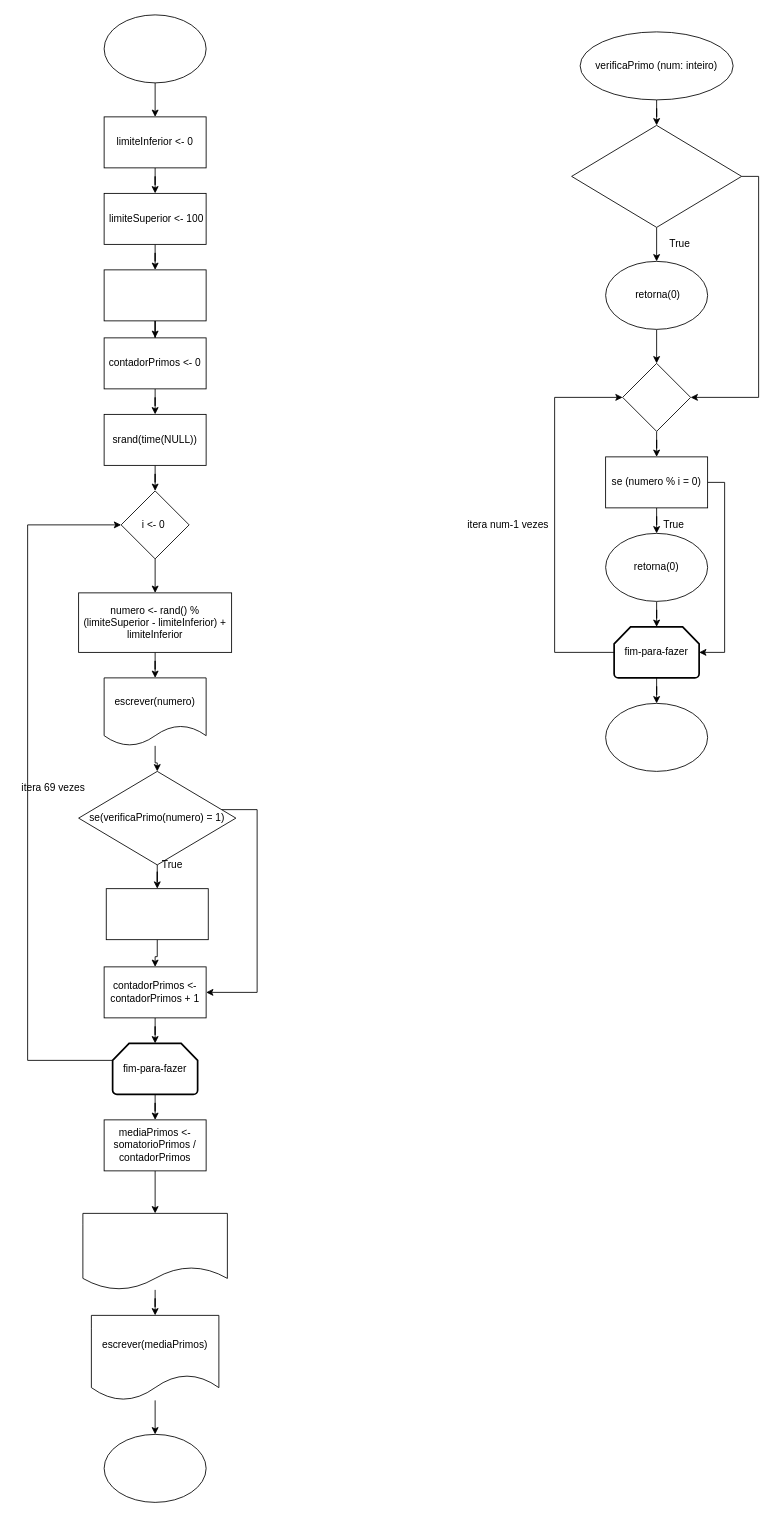
This 780x1517 diagram has some shape labels left out. Each missing label, with the box of its shape:
escrever(somatorioPrimos): (82, 1213, 227, 1290)
Fim: (103, 1434, 206, 1502)
i <- 2: (622, 363, 691, 431)
Inicio: (103, 14, 206, 83)
retorna(1): (605, 703, 708, 771)
se (numero = 0 ou numero = 1): (571, 125, 742, 227)
somatorioPrimos <- 0: (103, 269, 206, 321)
somatorioPrimos <- somatorioPrimos + numero: (105, 888, 208, 940)
